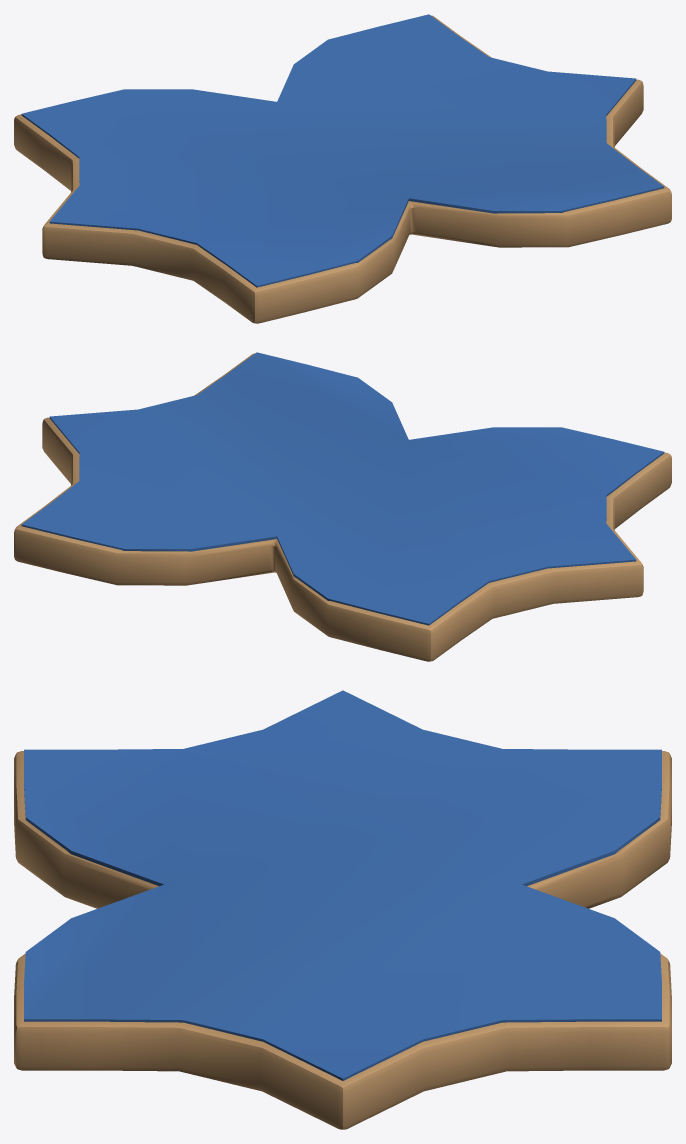
Rendered from den_puzzle_piece.glb.
The picture shows the model from 3 angles, top to bottom: view 1: azimuth 30°, elevation 25°; view 2: azimuth 150°, elevation 25°; view 3: azimuth 270°, elevation 25°; orthographic projection. The views are drawn at different scales.
Visible parts, largest first — view 1: den_puzzle_piece; view 2: den_puzzle_piece; view 3: den_puzzle_piece.
Part boxes in pixels (x1,y1,x2,y2): den_puzzle_piece: (14,14,671,323); den_puzzle_piece: (14,352,671,661); den_puzzle_piece: (14,690,671,1129).
Size of the model in its own units: 7.15 by 0.42 by 5.
